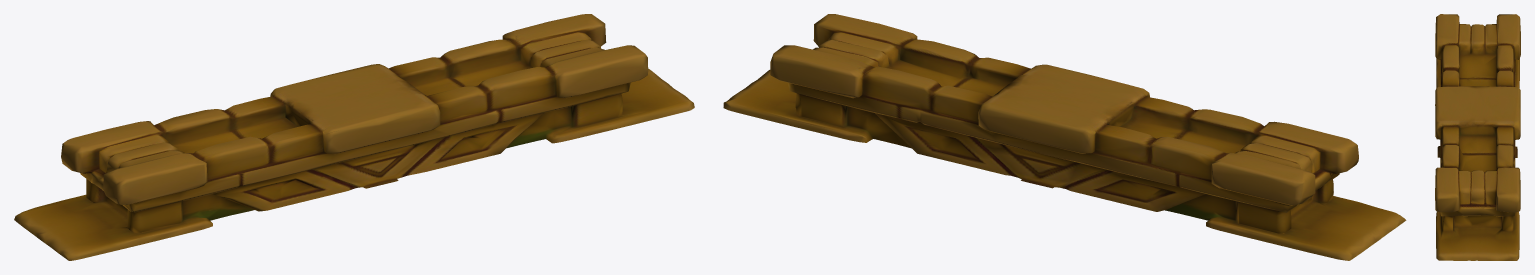
The model's file is stone_beam.glb.
3 renders of one model, left to right at view 1: azimuth 30°, elevation 25°; view 2: azimuth 150°, elevation 25°; view 3: azimuth 270°, elevation 25°, orthographic. The views are drawn at different scales.
Parts seen in each view (by area): view 1: gate_mesh; view 2: gate_mesh; view 3: gate_mesh.
Part boxes in pixels (x1,y1,x2,y2): gate_mesh: [14, 14, 694, 260]; gate_mesh: [723, 14, 1406, 260]; gate_mesh: [1435, 14, 1520, 260].
Bounding box in the file's own units: 3.3 × 0.34 × 0.55.
2 materials, 1 textured.
